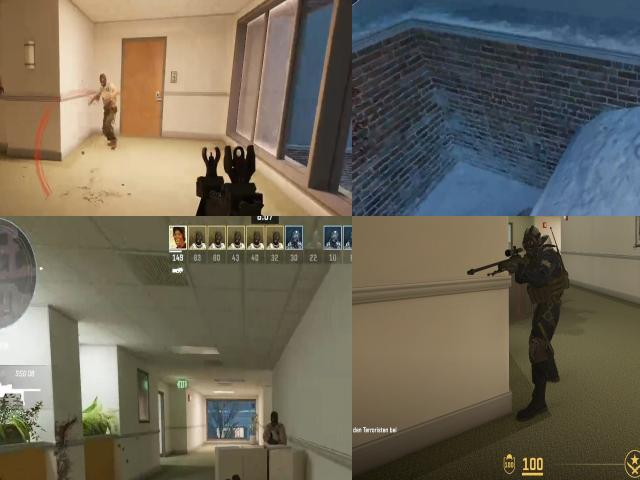CT: (521, 228, 565, 391)
CT-Head: (524, 226, 542, 255)
T: (96, 68, 119, 137), (266, 408, 286, 446)
T-Head: (267, 410, 283, 424), (97, 73, 110, 89)
